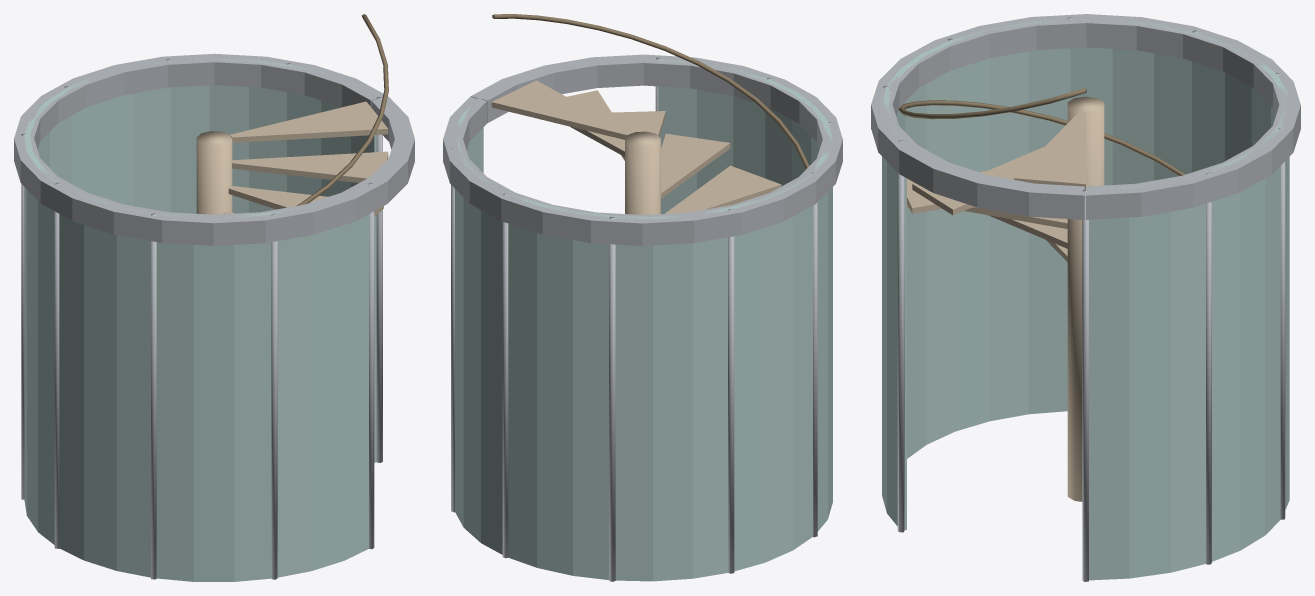
The model's file is city_core_spiral.glb.
3 views of the same model, side by side, from view 1: azimuth 30°, elevation 25°; view 2: azimuth 150°, elevation 25°; view 3: azimuth 270°, elevation 25° (orthographic). The views are drawn at different scales.
Parts seen in each view (by area): view 1: CityCoreSpiral_Drum, CityCoreSpiral_Ring, CityCoreSpiral_Tread15, CityCoreSpiral_Newel, CityCoreSpiral_Tread14, CityCoreSpiral_Mullion7, CityCoreSpiral_Mullion6, CityCoreSpiral_Mullion5, CityCoreSpiral_Mullion8, CityCoreSpiral_Mullion0, CityCoreSpiral_Mullion4, CityCoreSpiral_Tread13 (+1 smaller); view 2: CityCoreSpiral_Drum, CityCoreSpiral_Ring, CityCoreSpiral_Tread15, CityCoreSpiral_Newel, CityCoreSpiral_Tread11, CityCoreSpiral_Tread12, CityCoreSpiral_Mullion3, CityCoreSpiral_Mullion4, CityCoreSpiral_Mullion2, CityCoreSpiral_Handrail, CityCoreSpiral_Mullion5, CityCoreSpiral_Mullion1 (+2 smaller); view 3: CityCoreSpiral_Drum, CityCoreSpiral_Ring, CityCoreSpiral_Newel, CityCoreSpiral_Tread15, CityCoreSpiral_Mullion8, CityCoreSpiral_Mullion0, CityCoreSpiral_Handrail, CityCoreSpiral_Mullion1, CityCoreSpiral_Mullion2, CityCoreSpiral_Tread9, CityCoreSpiral_Tread10, CityCoreSpiral_Tread14 (+2 smaller).
Boxes of the visible parts, x1,y1,x2,y2 form: CityCoreSpiral_Drum: (24,58,376,581); CityCoreSpiral_Ring: (14,53,414,245); CityCoreSpiral_Tread15: (230,101,388,142); CityCoreSpiral_Newel: (196,131,232,214); CityCoreSpiral_Tread14: (232,151,388,182); CityCoreSpiral_Mullion7: (271,213,277,579); CityCoreSpiral_Mullion6: (151,213,156,579); CityCoreSpiral_Mullion5: (54,182,60,548); CityCoreSpiral_Mullion8: (368,183,374,549); CityCoreSpiral_Mullion0: (376,97,382,462); CityCoreSpiral_Mullion4: (21,134,26,499); CityCoreSpiral_Tread13: (228,186,383,216); CityCoreSpiral_Drum: (455,59,832,581); CityCoreSpiral_Ring: (443,54,842,245); CityCoreSpiral_Tread15: (491,80,631,139); CityCoreSpiral_Newel: (625,131,660,214); CityCoreSpiral_Tread11: (665,165,781,213); CityCoreSpiral_Tread12: (661,133,730,198); CityCoreSpiral_Mullion3: (609,217,615,581); CityCoreSpiral_Mullion4: (728,209,734,573); CityCoreSpiral_Mullion2: (502,193,508,558); CityCoreSpiral_Handrail: (492,14,809,168); CityCoreSpiral_Mullion5: (812,172,817,537); CityCoreSpiral_Mullion1: (451,148,455,512); CityCoreSpiral_Drum: (882,19,1289,580); CityCoreSpiral_Ring: (871,14,1300,219); CityCoreSpiral_Newel: (1067,96,1104,501); CityCoreSpiral_Tread15: (1014,112,1085,189); CityCoreSpiral_Mullion8: (897,140,904,532); CityCoreSpiral_Mullion0: (1082,189,1088,581); CityCoreSpiral_Handrail: (898,88,1185,175); CityCoreSpiral_Mullion1: (1206,172,1211,564); CityCoreSpiral_Mullion2: (1278,128,1285,519); CityCoreSpiral_Tread9: (988,215,1067,248); CityCoreSpiral_Tread10: (964,208,1067,228); CityCoreSpiral_Tread14: (982,147,1043,179).
Bounding box in the file's own units: 4 × 4.97 × 4.
